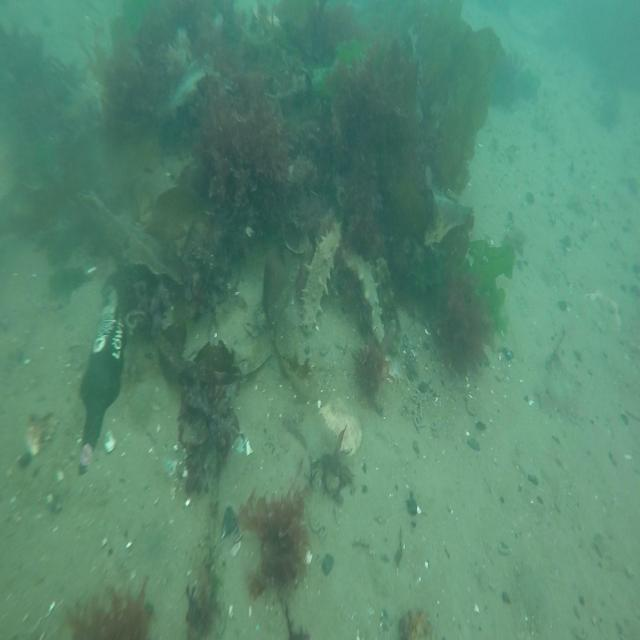holothurian: (298, 220, 343, 336), (344, 244, 385, 347), (374, 255, 404, 358)
scallop: (316, 394, 364, 459)
